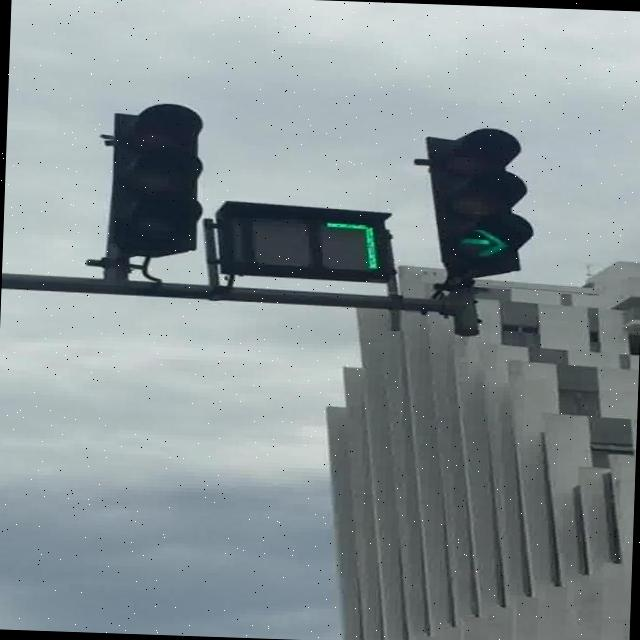green_light: (418, 124, 537, 278)
